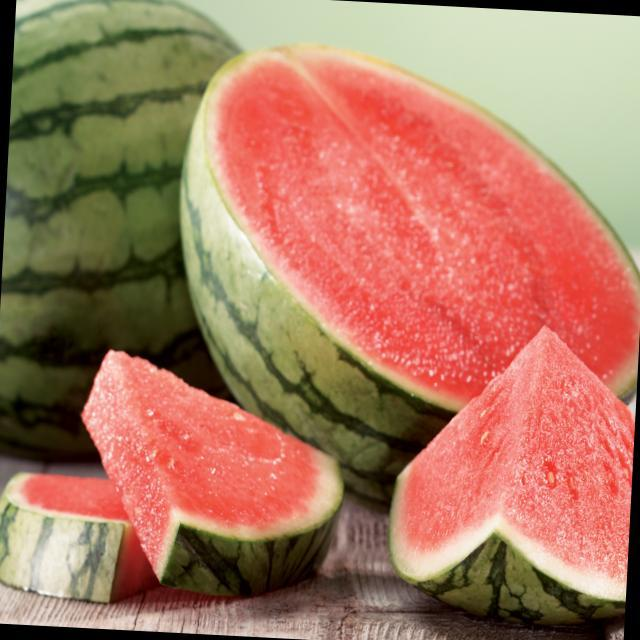WATERMELON: (177, 30, 640, 425), (0, 0, 275, 455), (388, 322, 640, 620), (78, 351, 345, 586), (0, 426, 157, 605)
